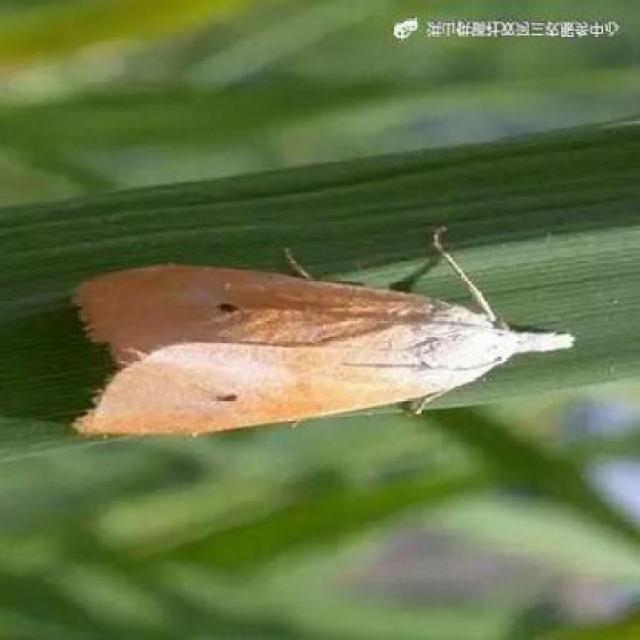stem-borer: (66, 251, 579, 443)
